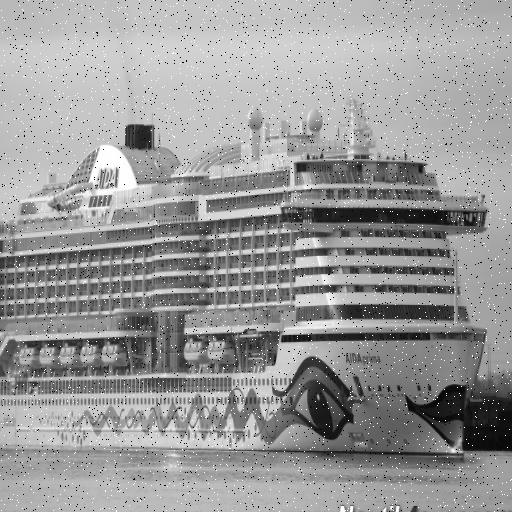cruises: (1, 98, 499, 475)
